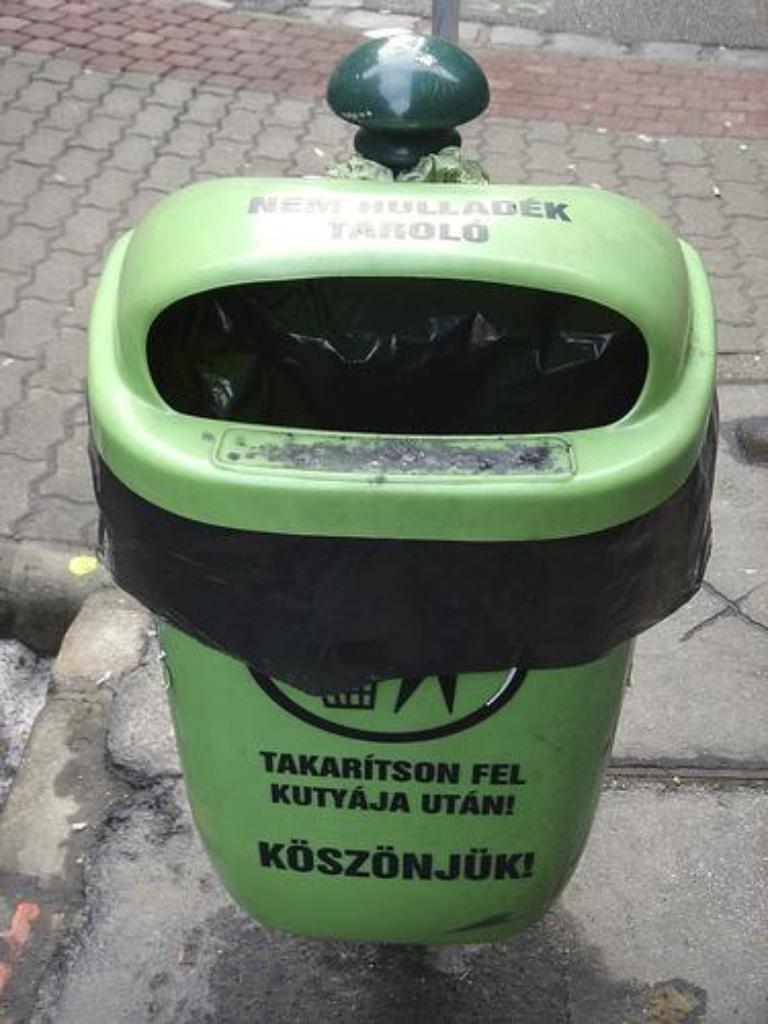dustbin: (112, 175, 715, 985)
